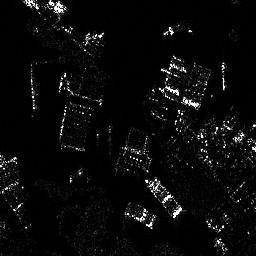ship: (29, 62, 39, 108), (221, 60, 228, 91)
